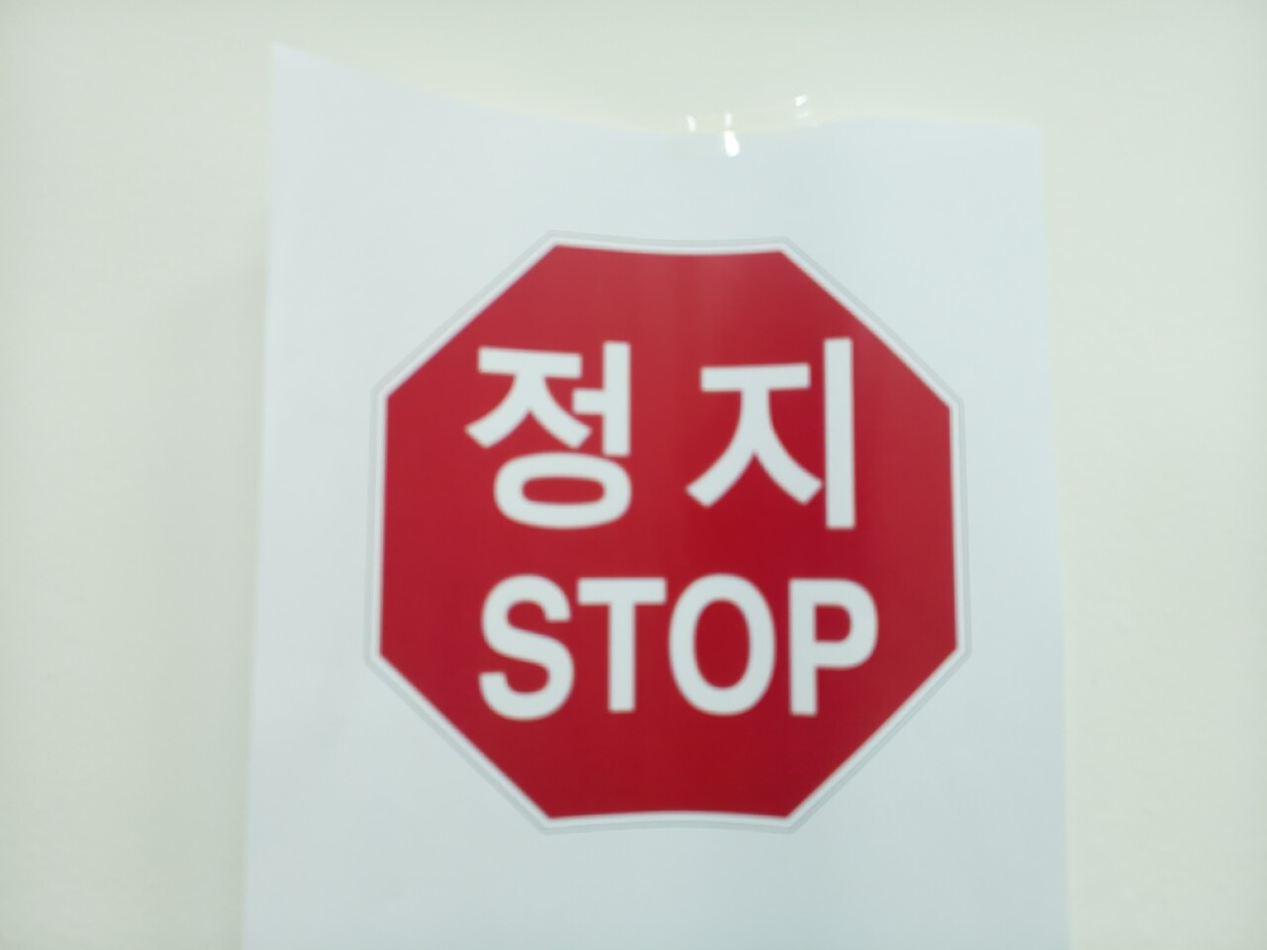stop: (364, 230, 972, 833)
